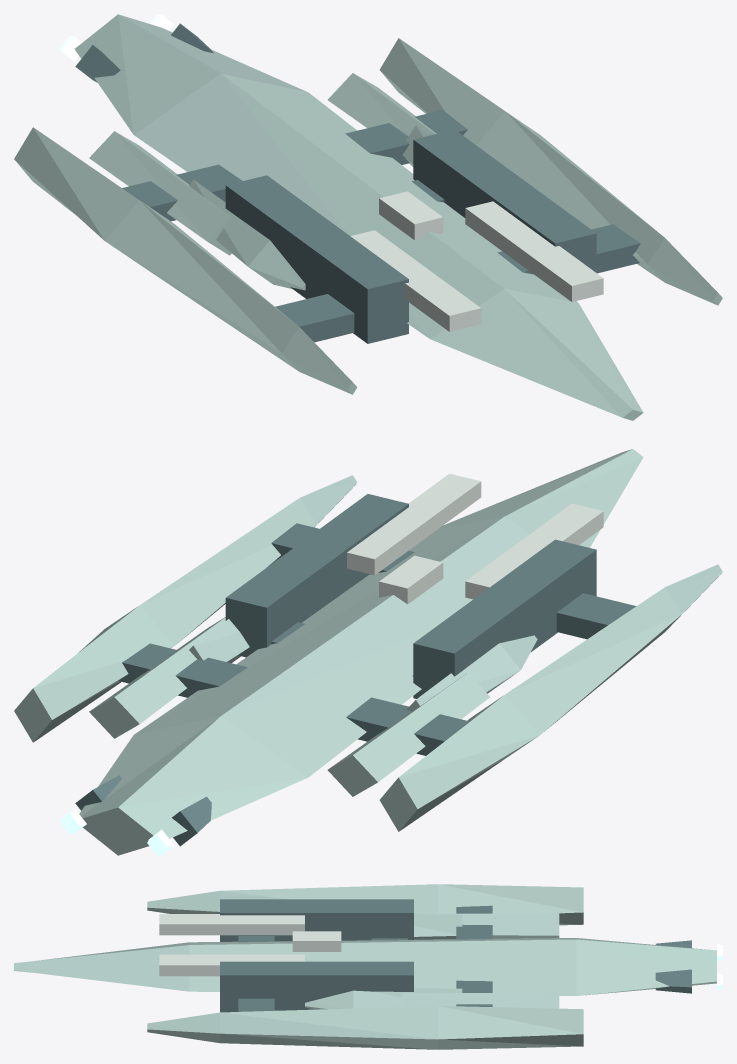
3 renders of one model, top to bottom at view 1: azimuth 30°, elevation 25°; view 2: azimuth 150°, elevation 25°; view 3: azimuth 270°, elevation 25°, orthographic. The views are drawn at different scales.
Size of the model in its own units: 5.1 by 0.954 by 10.53.
